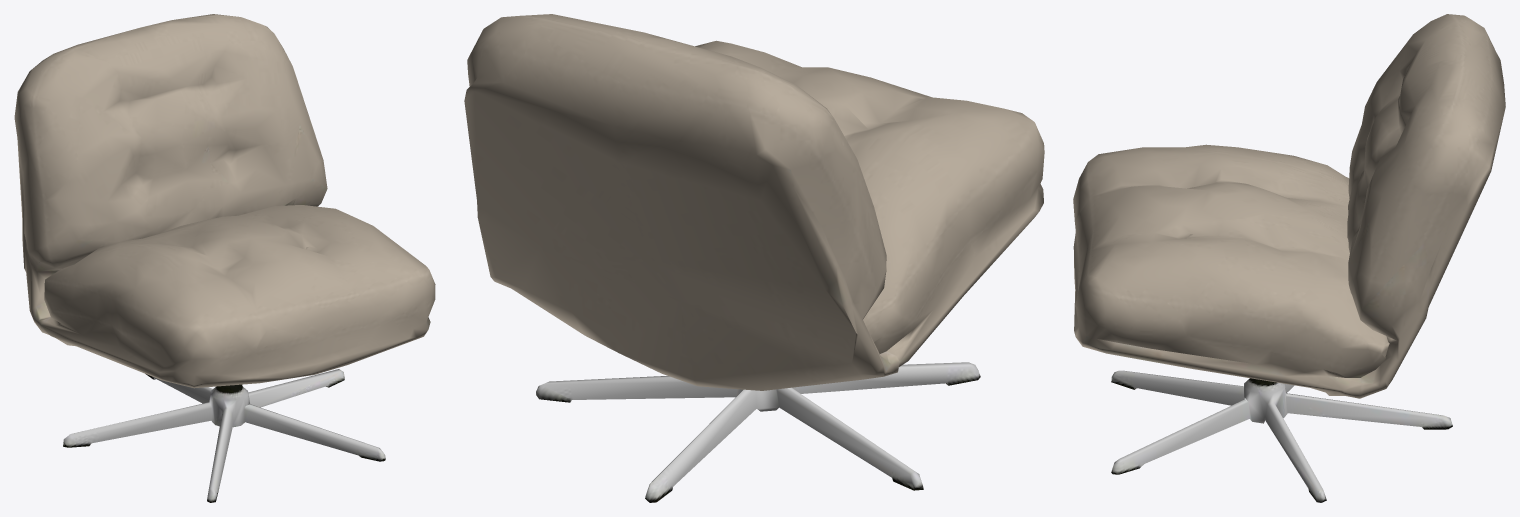
The model's file is 04 - DYVLINGE Swivel easy chair - Kelinge beige.glb.
3 renders of one model, left to right at view 1: azimuth 30°, elevation 25°; view 2: azimuth 150°, elevation 25°; view 3: azimuth 270°, elevation 25°, orthographic. The views are drawn at different scales.
Parts seen in each view (by area): view 1: ASY_ART_00623862_S01_NV01; view 2: ASY_ART_00623862_S01_NV01; view 3: ASY_ART_00623862_S01_NV01.
Boxes of the visible parts, bbox=[...] form: ASY_ART_00623862_S01_NV01: bbox=[14, 14, 435, 502]; ASY_ART_00623862_S01_NV01: bbox=[464, 14, 1044, 502]; ASY_ART_00623862_S01_NV01: bbox=[1073, 14, 1505, 502].
Size of the model in its own units: 0.6402 by 0.7157 by 0.7501.
Materials: 1 (1 with a texture image).
